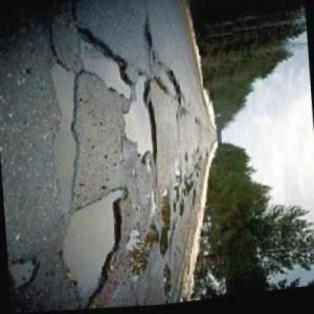Hueco: (52, 186, 140, 311), (43, 59, 90, 214), (76, 21, 134, 109), (117, 75, 157, 169), (124, 224, 163, 284), (151, 62, 186, 110), (157, 189, 177, 259), (8, 257, 44, 291), (141, 21, 156, 54), (162, 265, 175, 301)
